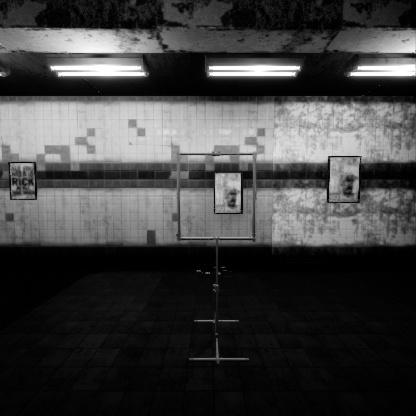gate: (177, 174, 264, 264)
